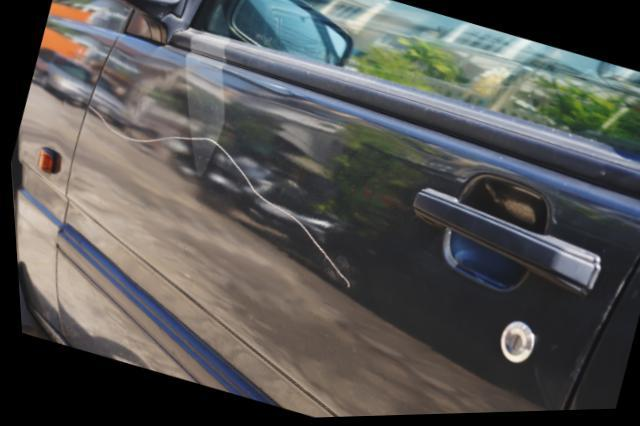scratch: (83, 104, 351, 293)
